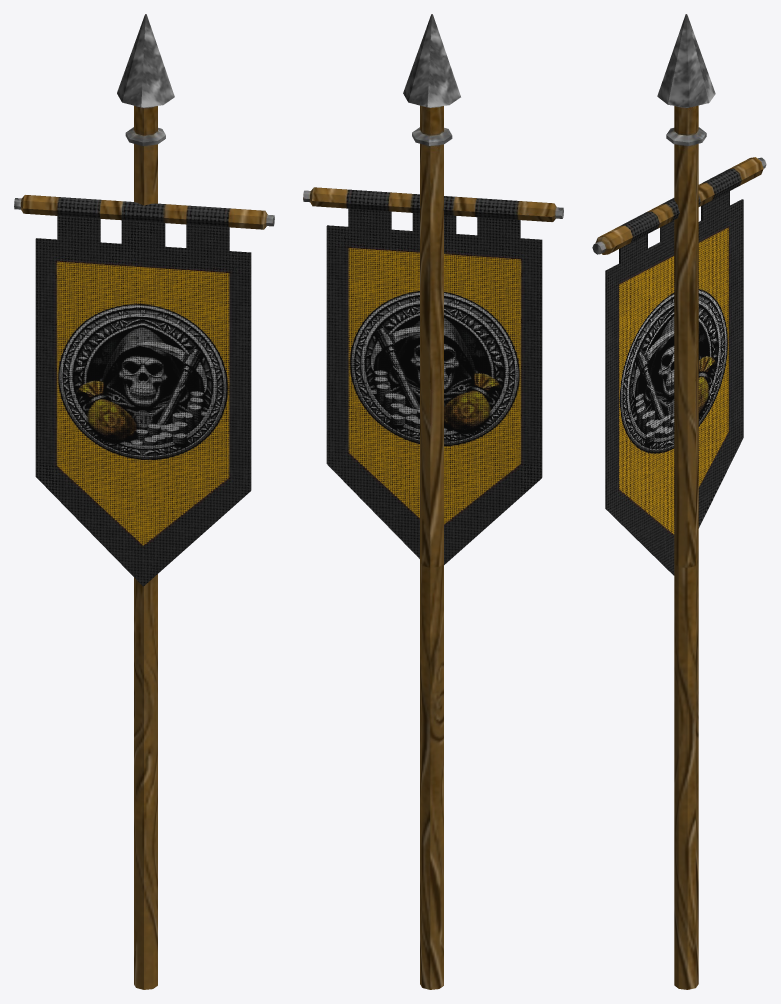
The model's file is Flag_GP.glb.
3 renders of one model, left to right at view 1: azimuth 30°, elevation 25°; view 2: azimuth 210°, elevation 25°; view 3: azimuth 270°, elevation 25°, orthographic.
Parts seen in each view (by area): view 1: Bannière_GP; view 2: Bannière_GP; view 3: Bannière_GP.
Part boxes in pixels (<box>): Bannière_GP: <box>14,14,274,989</box>; Bannière_GP: <box>303,14,563,989</box>; Bannière_GP: <box>592,14,766,989</box>.
Size of the model in its own units: 0.5322 by 2.7 by 0.4383.
1 material, 1 textured.
